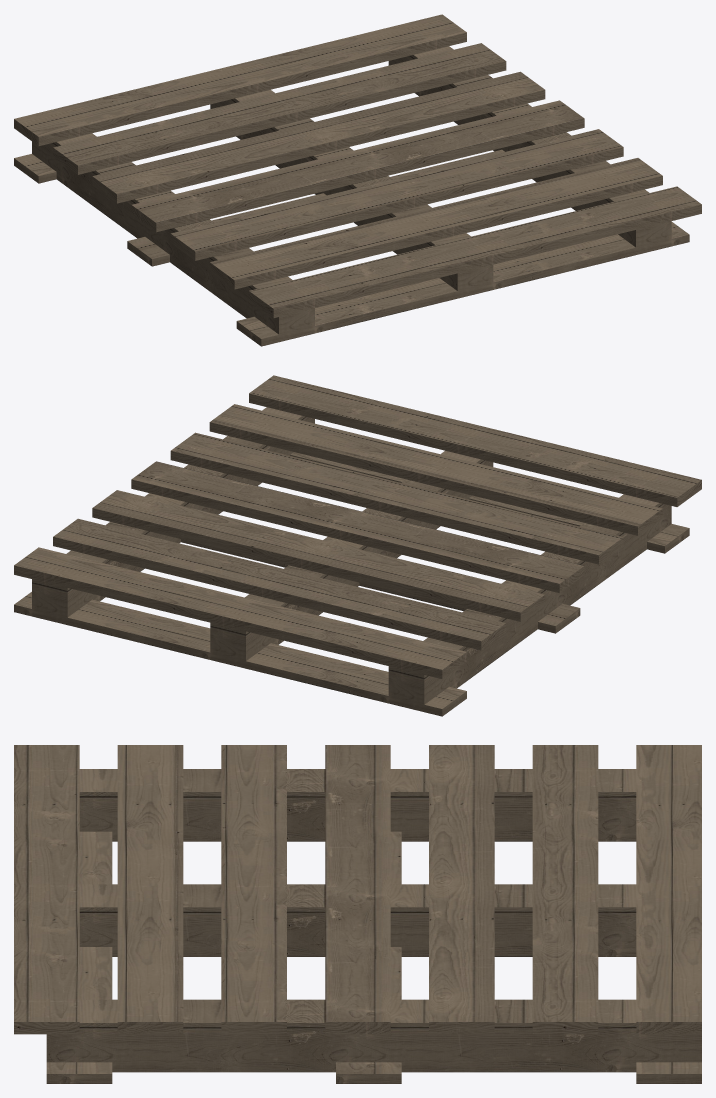
File: palete.glb
3 views of the same model, one above another, from view 1: azimuth 30°, elevation 25°; view 2: azimuth 150°, elevation 25°; view 3: azimuth 270°, elevation 25° (orthographic). The views are drawn at different scales.
Visible parts, largest first — view 1: madeira_velha; view 2: madeira_velha; view 3: madeira_velha.
Boxes of the visible parts, left/top/right/bottom form: madeira_velha: left=14, top=14, right=701, bottom=346; madeira_velha: left=14, top=375, right=701, bottom=716; madeira_velha: left=14, top=745, right=701, bottom=1083.
Bounding box in the file's own units: 1.2 × 0.125 × 1.26.
1 material, 1 textured.
